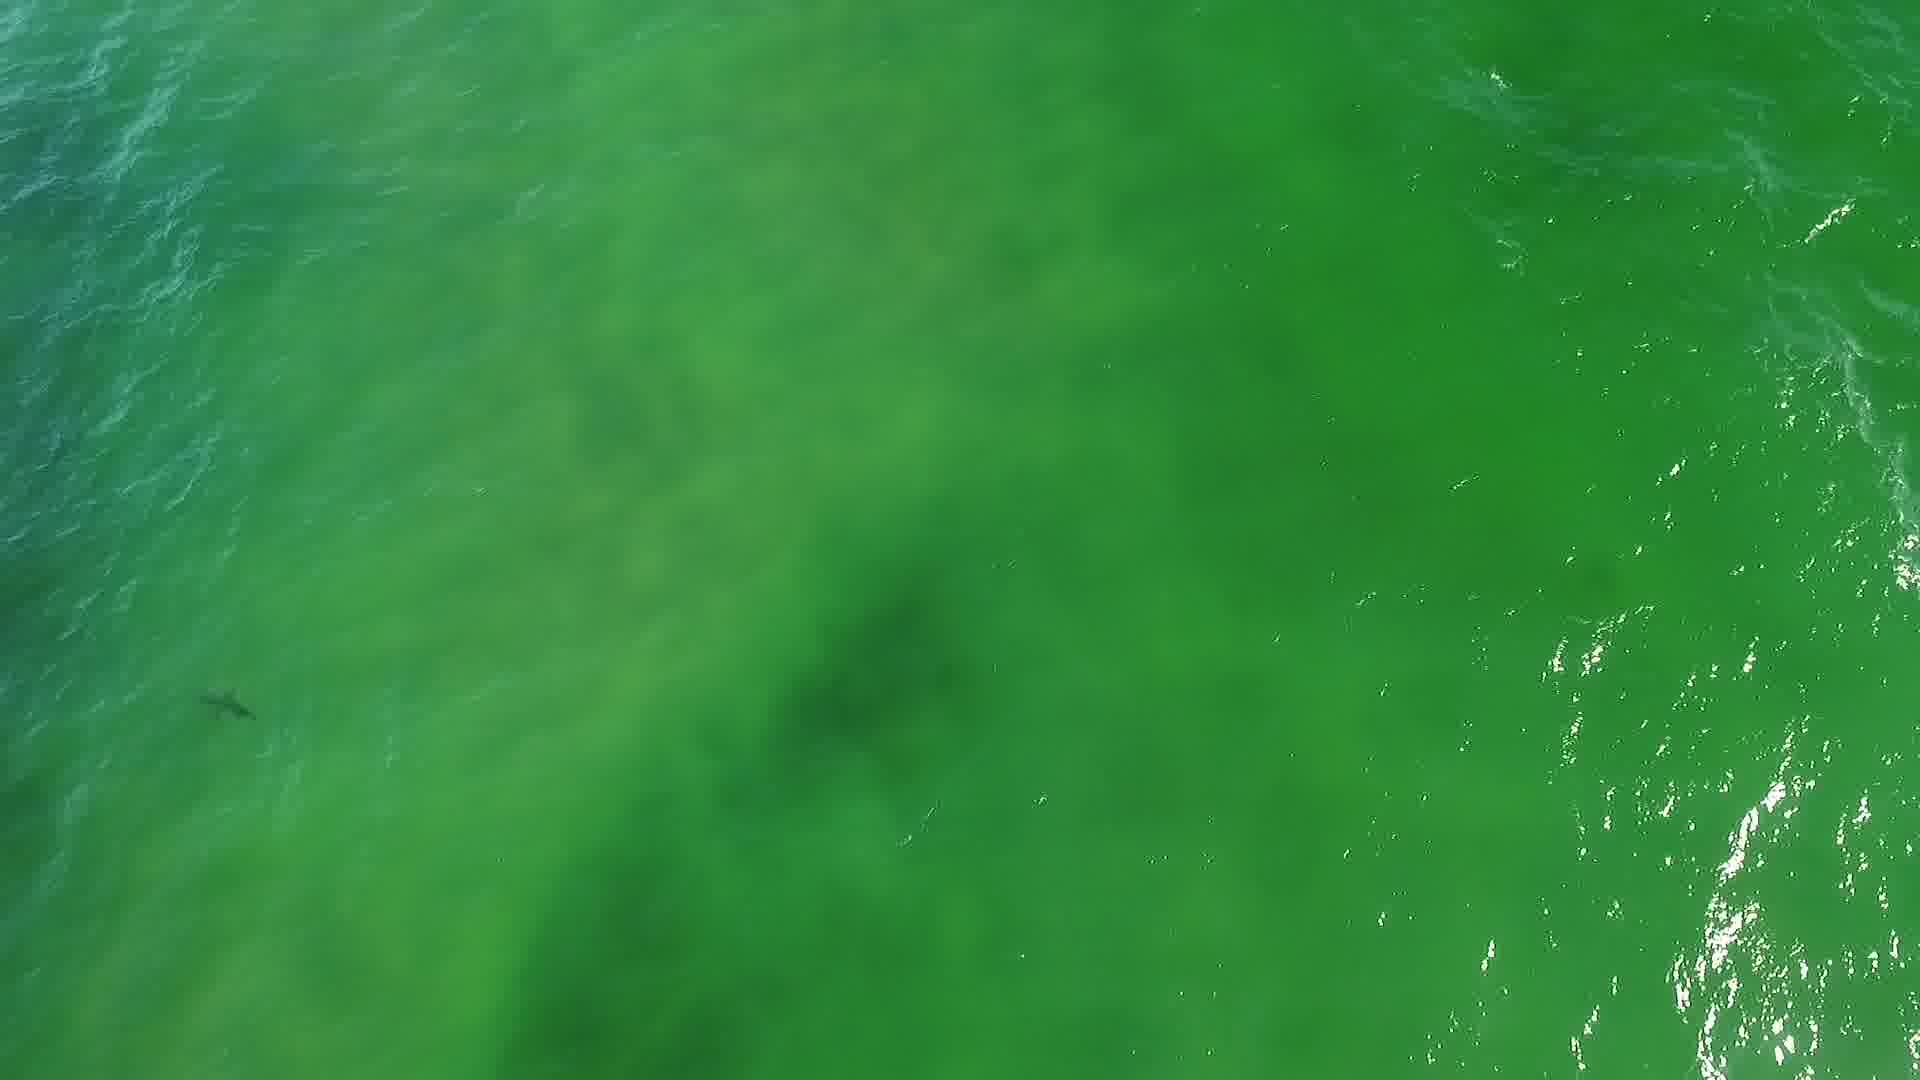shark: (190, 684, 262, 727)
